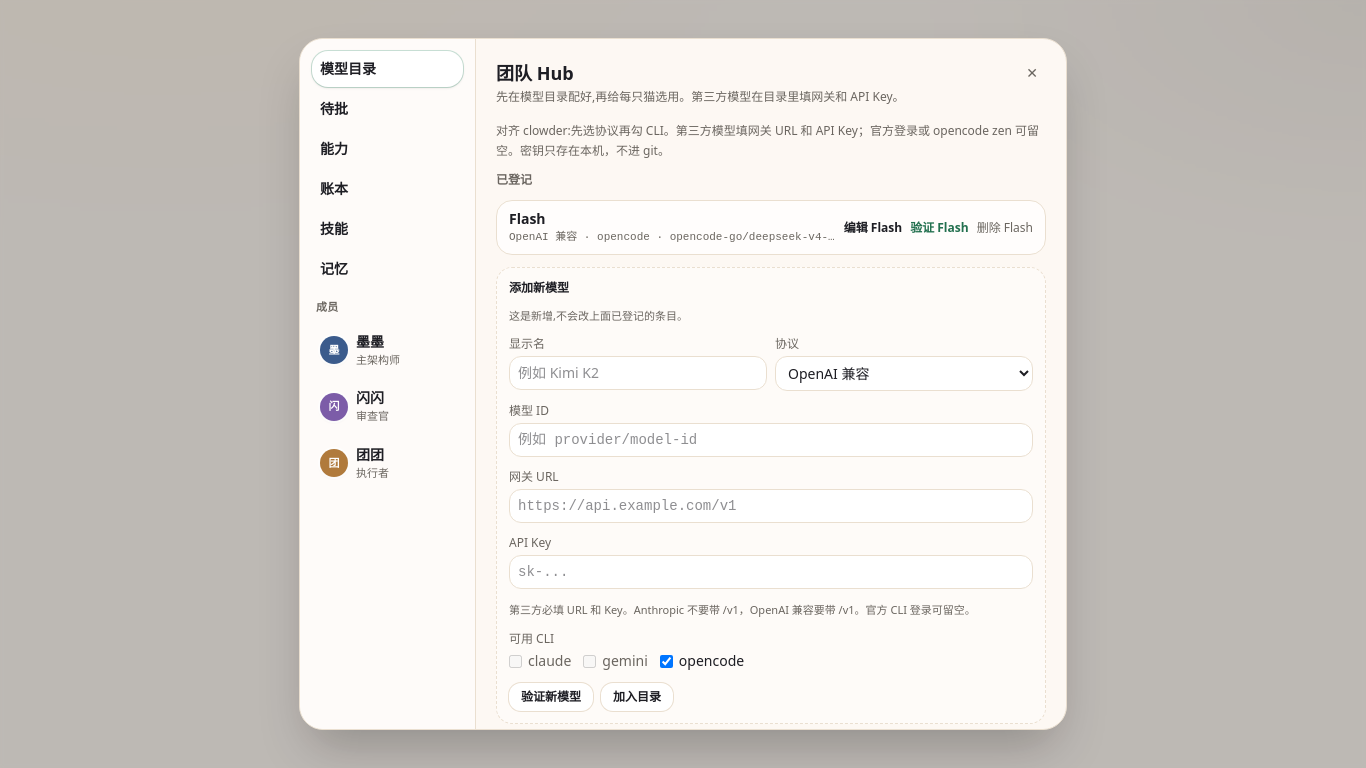
it: TeamHub › 加入目录没勾 CLI 显示字段提示
Type "kimi-k2" into the field labelled "模型 ID" at (771, 440), box x1=509 y1=423 x2=1033 y2=457
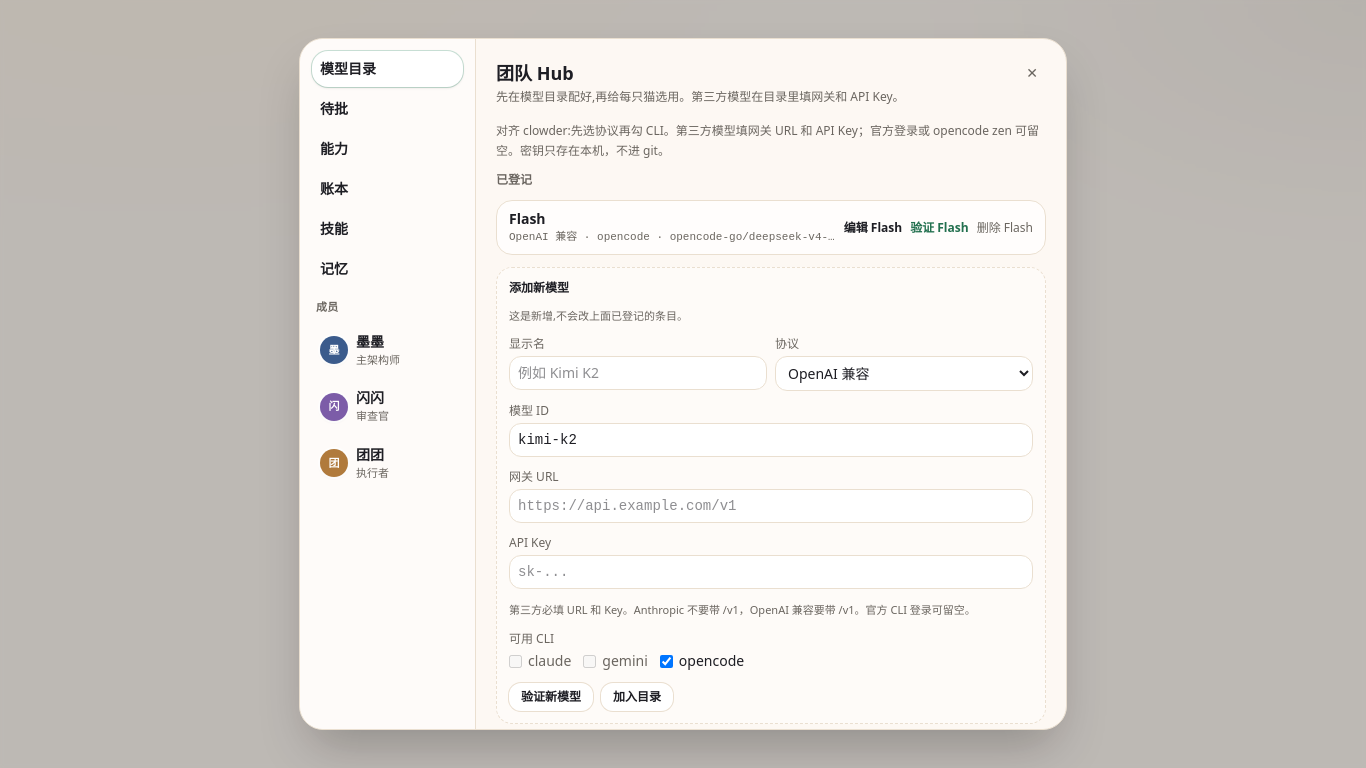
Click the checkbox labelled "opencode" at (666, 661), box x1=660 y1=655 x2=673 y2=668
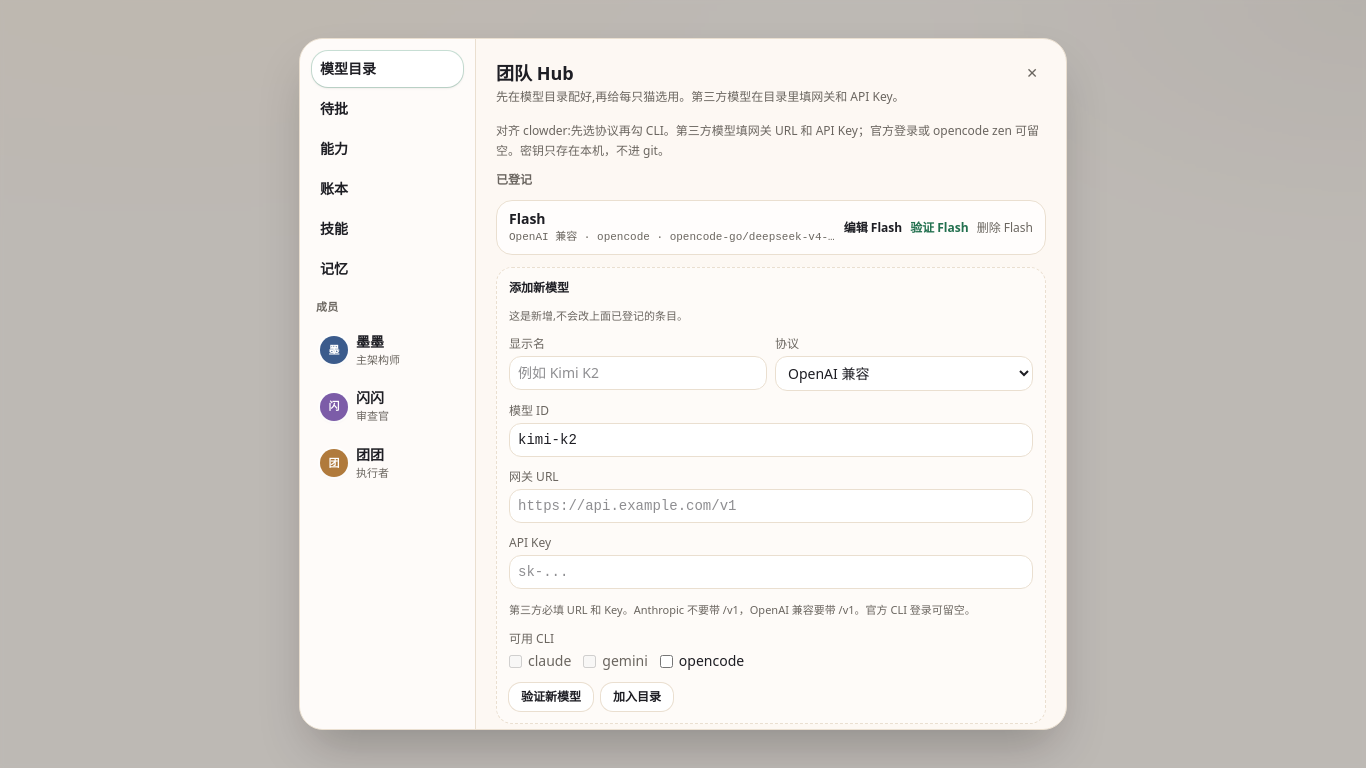
Click the button "加入目录" at (637, 697), box x1=601 y1=683 x2=673 y2=711
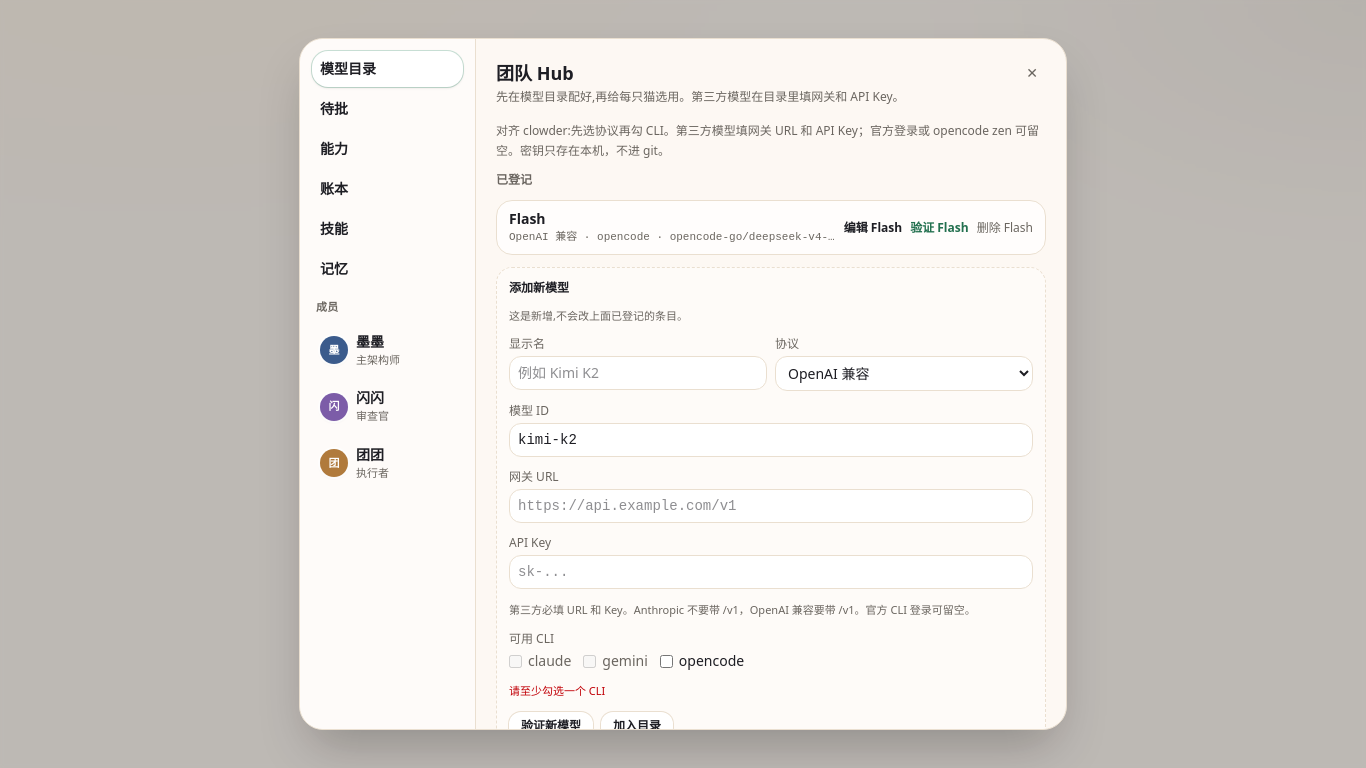
Expected: the text "请至少勾选一个 CLI" is shown, x1=509 y1=683 x2=605 y2=698
